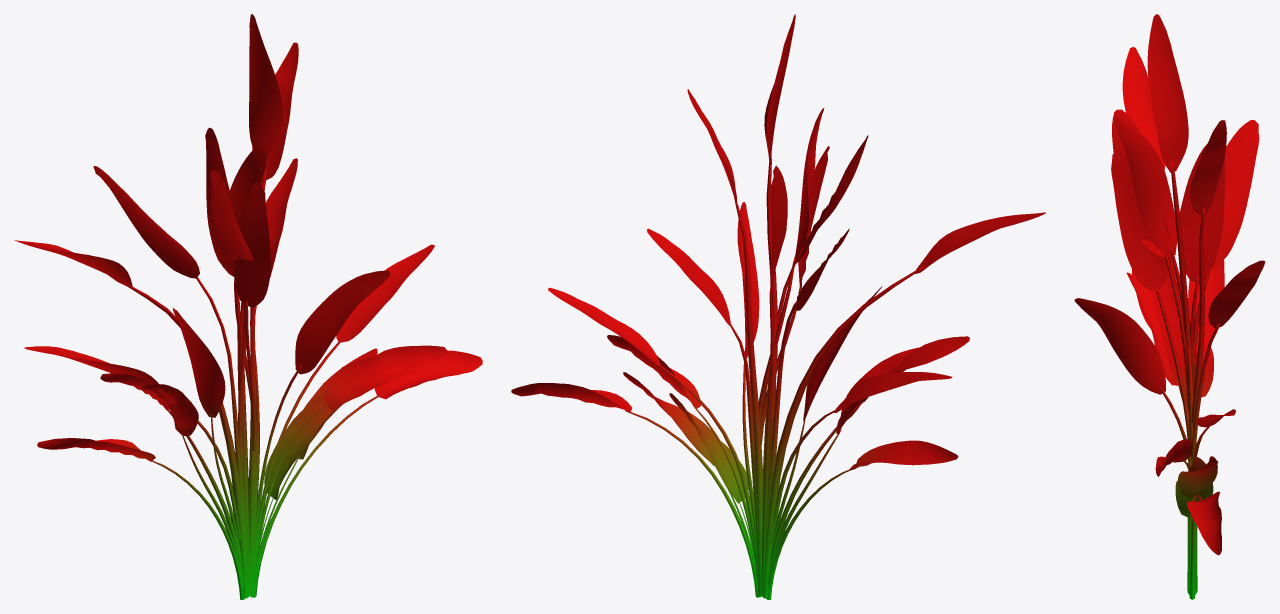
File: Bird Of Paradise_LOD3_Var3_wfypeifha.fbx
The picture shows the model from 3 angles, left to right: view 1: azimuth 30°, elevation 25°; view 2: azimuth 150°, elevation 25°; view 3: azimuth 270°, elevation 25°; orthographic projection. The views are drawn at different scales.
Visible parts, largest first — view 1: _xgjm_Var3_LOD3; view 2: _xgjm_Var3_LOD3; view 3: _xgjm_Var3_LOD3.
Part boxes in pixels (bbox=[...]): _xgjm_Var3_LOD3: bbox=[14, 14, 482, 599]; _xgjm_Var3_LOD3: bbox=[511, 14, 1045, 599]; _xgjm_Var3_LOD3: bbox=[1074, 14, 1265, 599].
Size of the model in its own units: 134 by 150 by 45.
